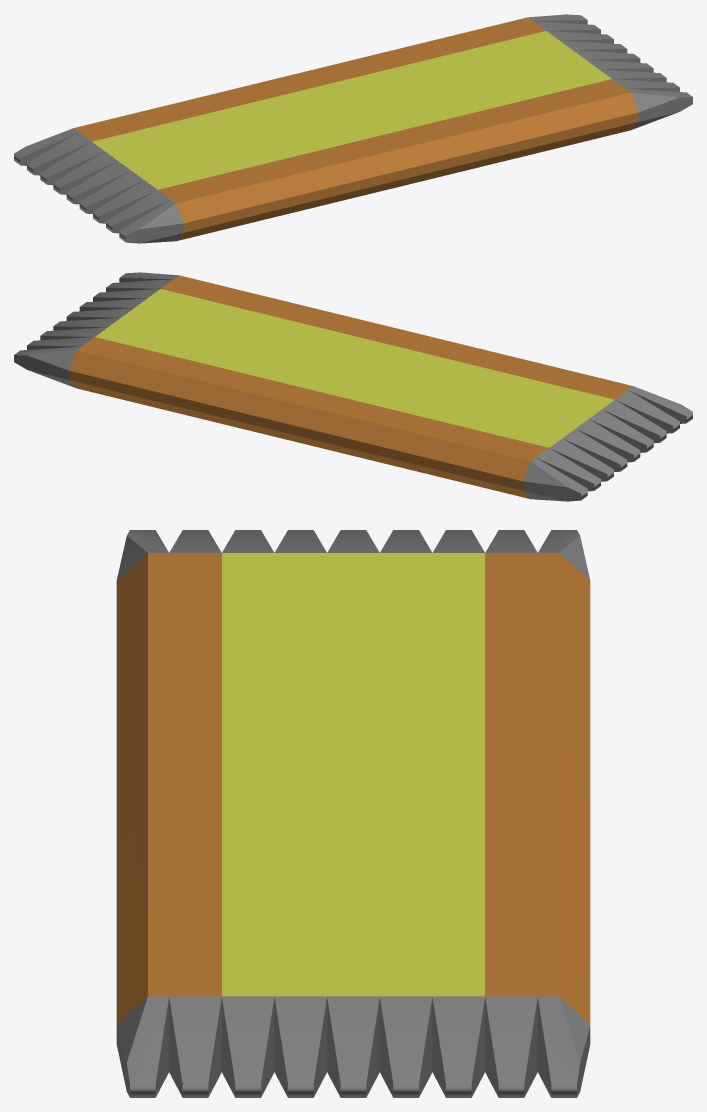
File: BarraEnergetica.glb
The picture shows the model from 3 angles, top to bottom: view 1: azimuth 30°, elevation 25°; view 2: azimuth 150°, elevation 25°; view 3: azimuth 270°, elevation 25°; orthographic projection. The views are drawn at different scales.
Parts seen in each view (by area): view 1: Cube; view 2: Cube; view 3: Cube.
Boxes of the visible parts, <box> form: Cube: <box>14,14,692,243</box>; Cube: <box>14,272,692,501</box>; Cube: <box>116,530,590,1097</box>.
Size of the model in its own units: 31.36 by 2 by 11.35.
